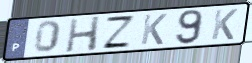0: (33, 19, 63, 55)
9: (174, 8, 205, 46)
H: (64, 15, 103, 54)
K: (210, 8, 240, 42), (139, 13, 169, 46)
Z: (100, 15, 138, 50)
